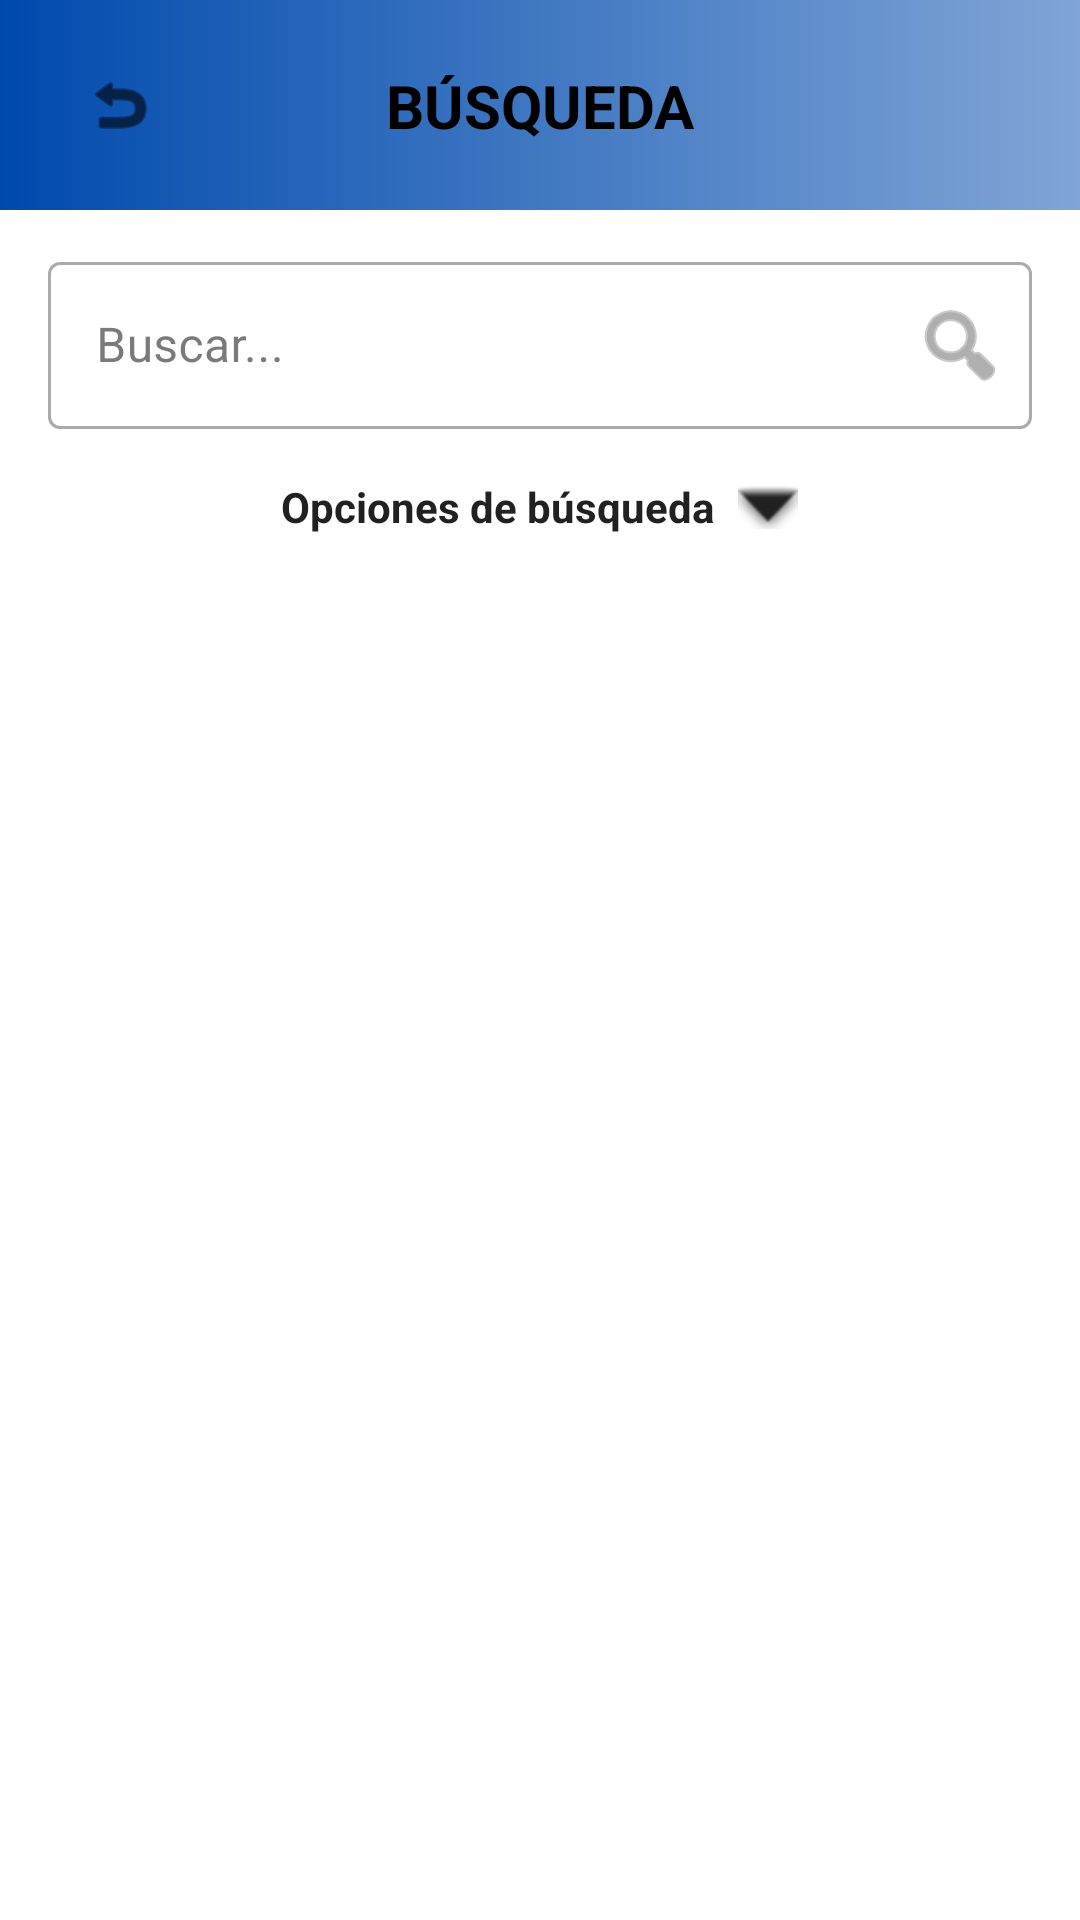

Icons on this 1080*1920 Android screen, each with the point to tap as [x,y]:
arrow down float: [768,507]
Volver atrás: [121,105]
